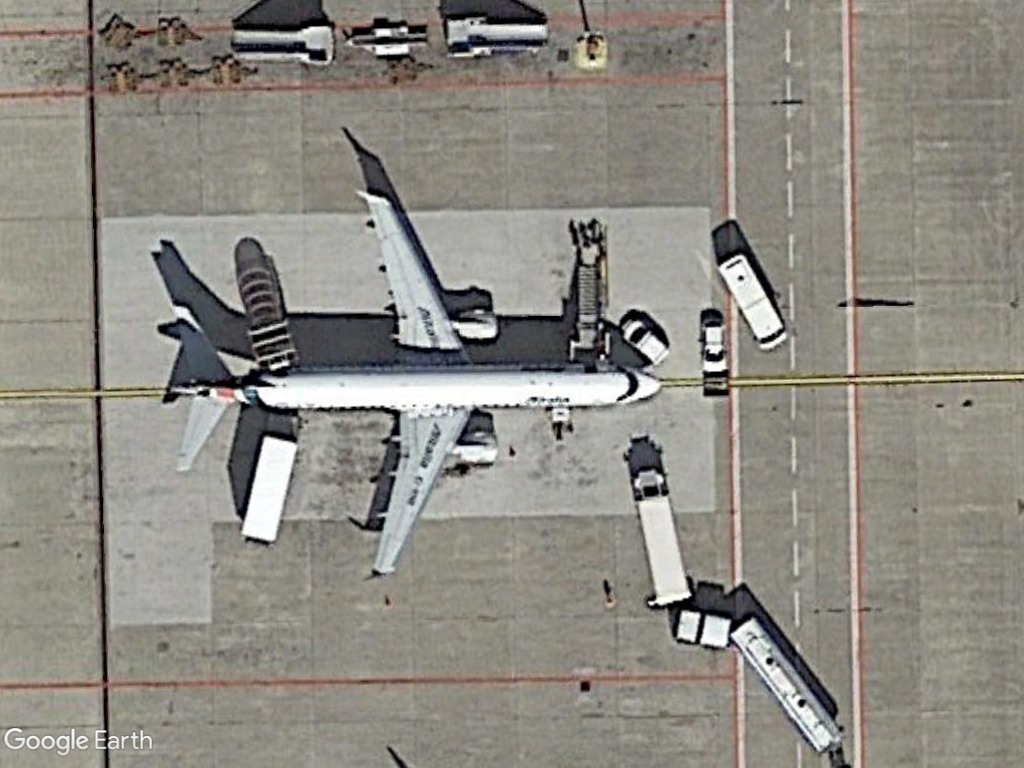airliner: (162, 172, 666, 580)
car: (698, 309, 732, 375)
longvehicle: (727, 611, 849, 759), (629, 462, 695, 608), (236, 428, 303, 550)
stairtruck: (559, 230, 618, 360), (442, 15, 553, 62), (229, 22, 338, 68)
van: (712, 248, 792, 353), (617, 315, 672, 368)
